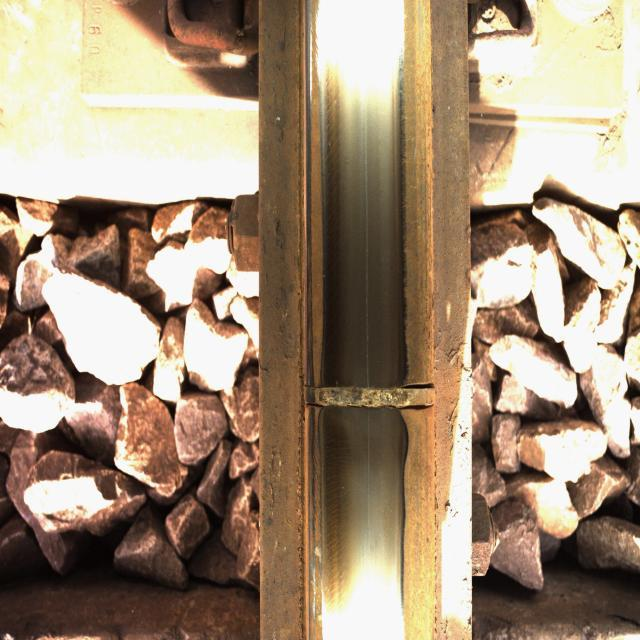spalling: (282, 337, 453, 455)
